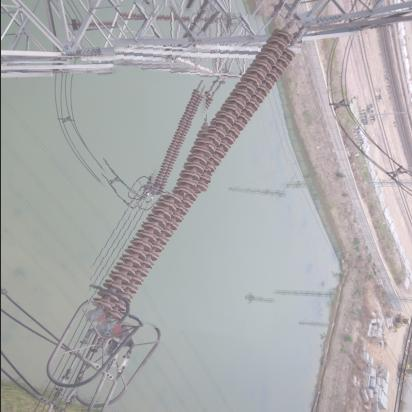insulator: (94, 7, 296, 337), (146, 82, 210, 196)
